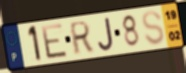1: (27, 24, 43, 63)
8: (122, 14, 141, 49)
E: (39, 21, 70, 61)
J: (97, 17, 115, 53)
R: (69, 20, 94, 57)
S: (141, 9, 166, 47)
